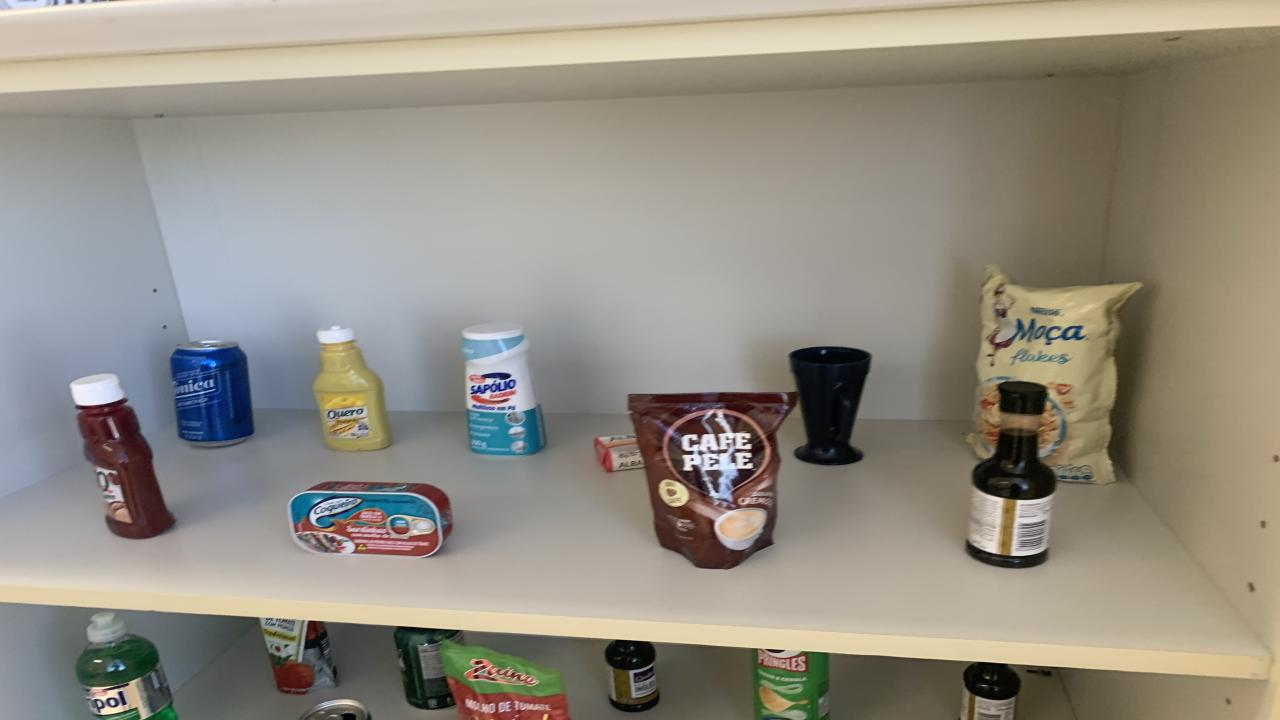Cleaner-Cleanup_Items: (462, 322, 545, 456)
Coffee-Pantry_Items: (628, 392, 798, 568)
Detergent-Cleanup_Items: (75, 611, 178, 720)
English_Sauce-Pantry_Items: (965, 382, 1055, 568), (605, 639, 660, 712), (960, 662, 1020, 720)
Flakes-Snacks: (968, 266, 1140, 484)
Guarana_Can-Drinks: (395, 626, 462, 709)
Ketchup-Pantry_Items: (70, 373, 175, 538)
Mustard-Pantry_Items: (312, 326, 392, 452)
Pringles-Snacks: (752, 649, 830, 720)
Soap-Cleanup_Items: (595, 435, 645, 471)
Tomato_Sauce-Pantry_Items: (440, 641, 568, 720), (260, 617, 338, 694)
Tonic-Drinks: (170, 341, 255, 446)
Tuna_Can-Pantry_Items: (288, 482, 452, 557)
